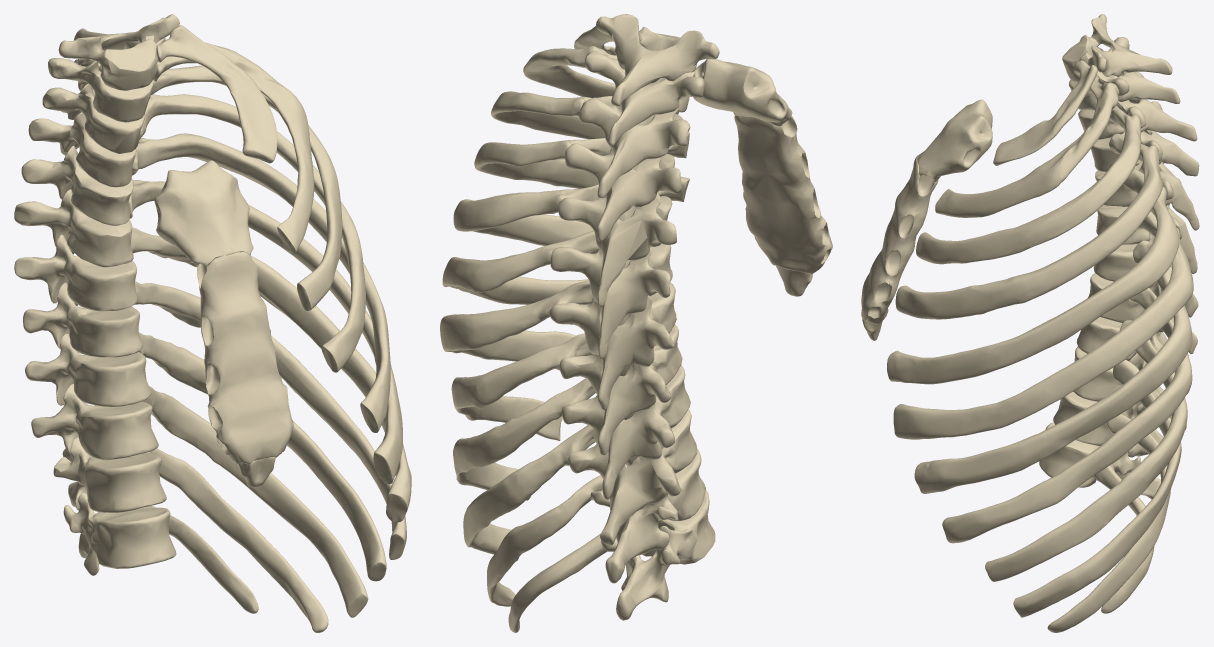
The model's file is thoraxb.glb.
The picture shows the model from 3 angles, left to right: view 1: azimuth 30°, elevation 25°; view 2: azimuth 150°, elevation 25°; view 3: azimuth 270°, elevation 25°; orthographic projection. The views are drawn at different scales.
Parts seen in each view (by area): view 1: body of sternum, manubrium, left fifth rib, left tenth rib, left eighth rib, left seventh rib, twelfth thoracic vertebra, left ninth rib, left fourth rib, tenth thoracic vertebra, left eleventh rib, eleventh thoracic vertebra (+15 smaller); view 2: body of sternum, left seventh rib, seventh thoracic vertebra, tenth thoracic vertebra, left fifth rib, first thoracic vertebra, ninth thoracic vertebra, left eighth rib, left sixth rib, sixth thoracic vertebra, fifth thoracic vertebra, left ninth rib (+15 smaller); view 3: left sixth rib, left fifth rib, left seventh rib, left fourth rib, left eighth rib, left third rib, left ninth rib, left second rib, left tenth rib, body of sternum, manubrium, left eleventh rib (+14 smaller).
Part boxes in pixels (x1,y1,x2,y2): body of sternum: [197, 252, 293, 464]; manubrium: [154, 160, 253, 267]; left fifth rib: [132, 133, 390, 432]; left tenth rib: [142, 386, 368, 617]; left eighth rib: [134, 281, 406, 559]; left seventh rib: [131, 227, 411, 522]; twelfth thoracic vertebra: [63, 492, 176, 575]; left ninth rib: [138, 332, 386, 581]; left fourth rib: [139, 94, 365, 372]; tenth thoracic vertebra: [31, 384, 158, 462]; left eleventh rib: [146, 448, 328, 632]; eleventh thoracic vertebra: [53, 437, 166, 512]; body of sternum: [734, 115, 832, 274]; left seventh rib: [440, 280, 592, 377]; seventh thoracic vertebra: [549, 282, 676, 410]; tenth thoracic vertebra: [568, 409, 697, 545]; left fifth rib: [453, 184, 598, 245]; first thoracic vertebra: [596, 14, 719, 106]; ninth thoracic vertebra: [561, 365, 690, 499]; left eighth rib: [451, 333, 592, 440]; left sixth rib: [442, 230, 598, 304]; sixth thoracic vertebra: [550, 244, 672, 358]; fifth thoracic vertebra: [558, 193, 676, 307]; left ninth rib: [453, 378, 595, 500]; left sixth rib: [893, 211, 1193, 439]; left fifth rib: [887, 169, 1179, 384]; left seventh rib: [914, 240, 1192, 493]; left fourth rib: [895, 134, 1162, 319]; left eighth rib: [942, 288, 1192, 543]; left third rib: [916, 105, 1141, 264]; left ninth rib: [985, 320, 1187, 581]; left second rib: [935, 80, 1119, 217]; left tenth rib: [1013, 359, 1181, 617]; body of sternum: [861, 155, 938, 324]; manubrium: [917, 99, 992, 181]; left eleventh rib: [1047, 414, 1170, 632].
Bounding box in the file's own units: 0.1732 × 0.3688 × 0.2139.
